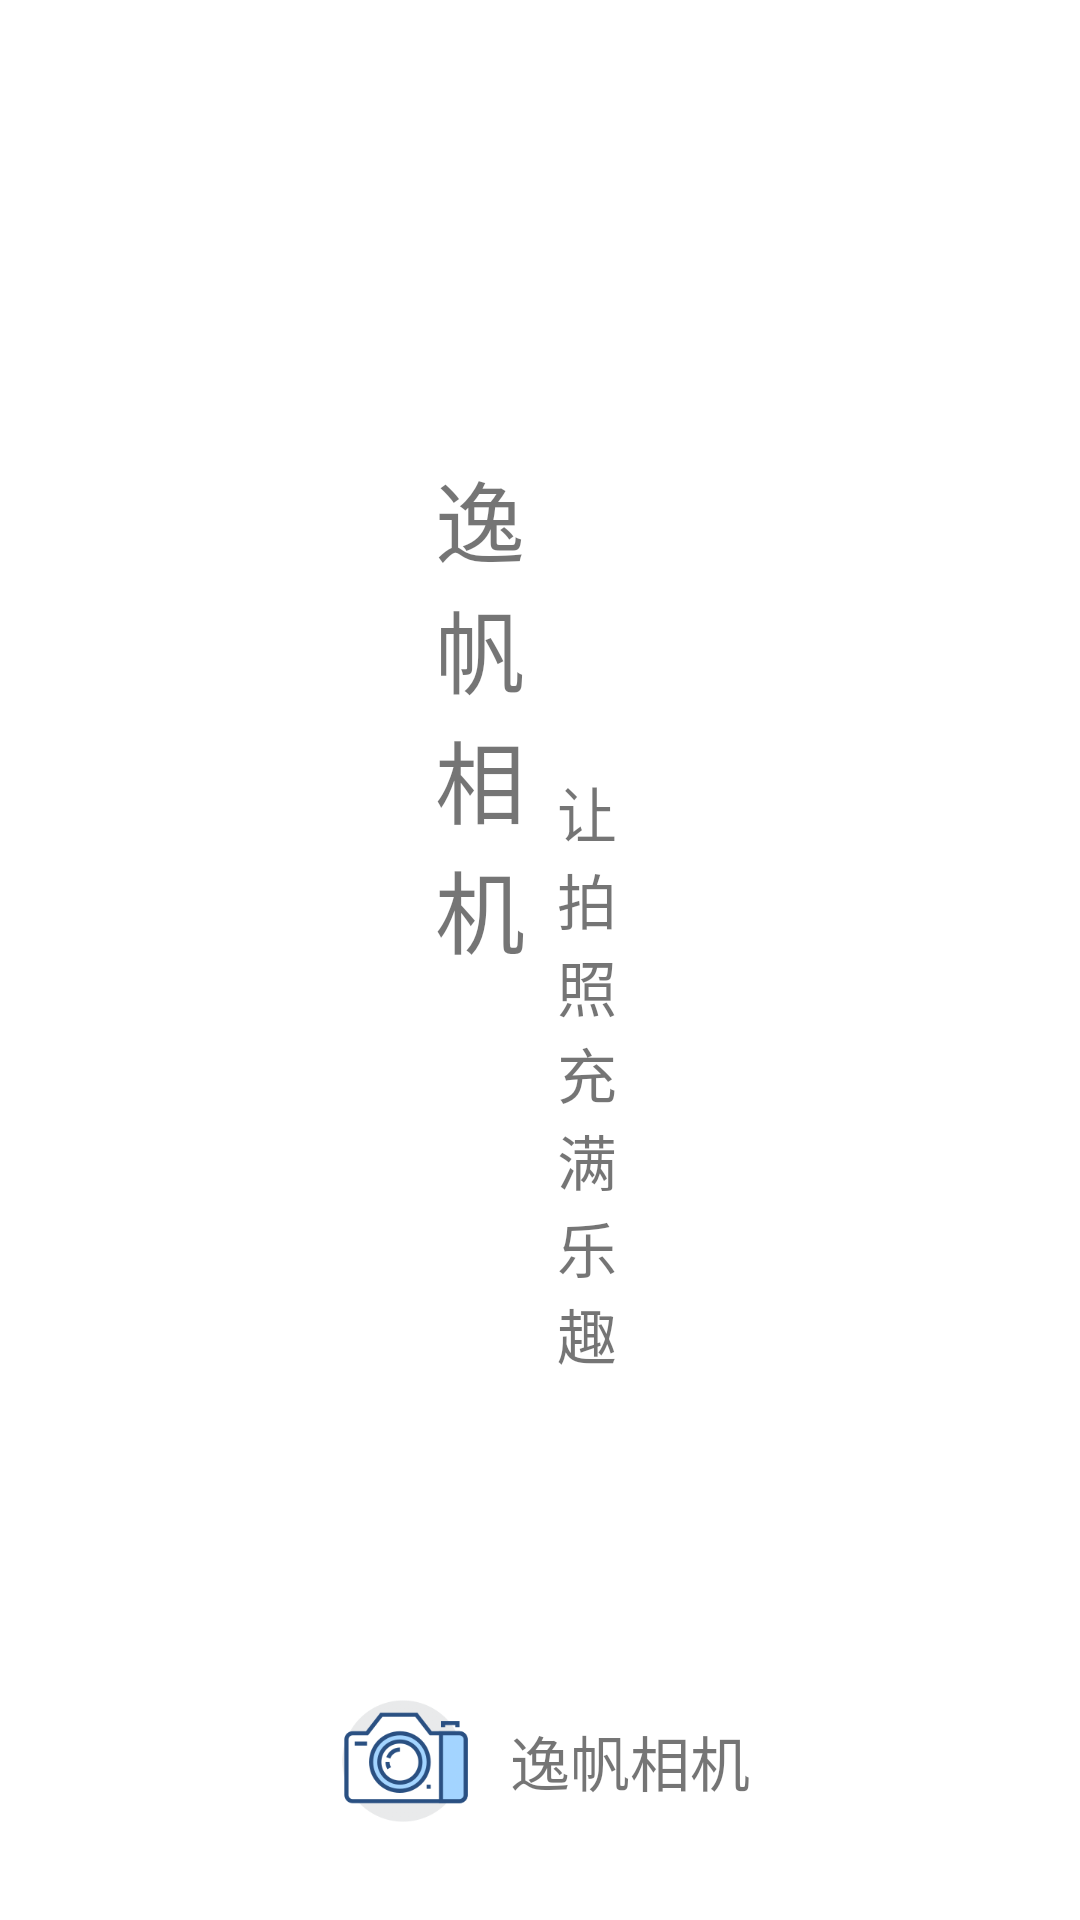

Screen size 1080 x 1920. Icon name, then its box in pixels as {"x1": x1, "y1": y1, "x2": x2, "y2": y2}:
xiangji: {"x1": 344, "y1": 1712, "x2": 468, "y2": 1804}
